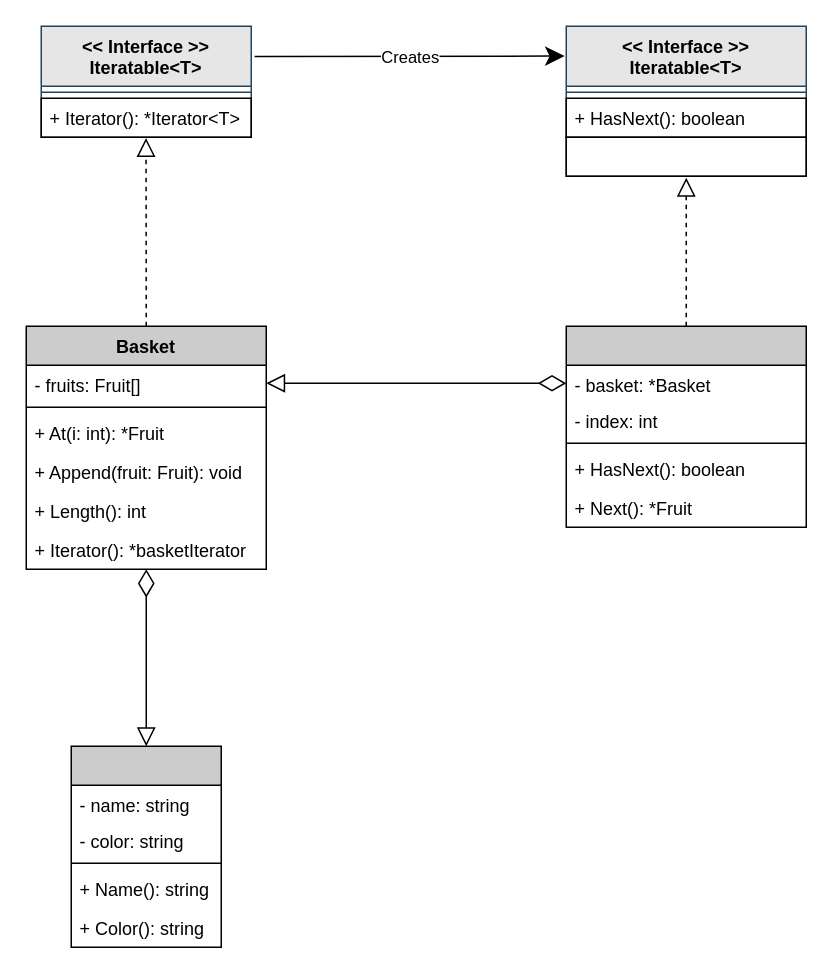
Some shapes in this 833 by 978 pixel diagram are drawn without their labels. Each missing label, with the box of its shape:
+ Next(): *T: (565, 136, 806, 176)
basketIterator: (565, 325, 806, 527)
Fruit: (70, 745, 221, 947)
